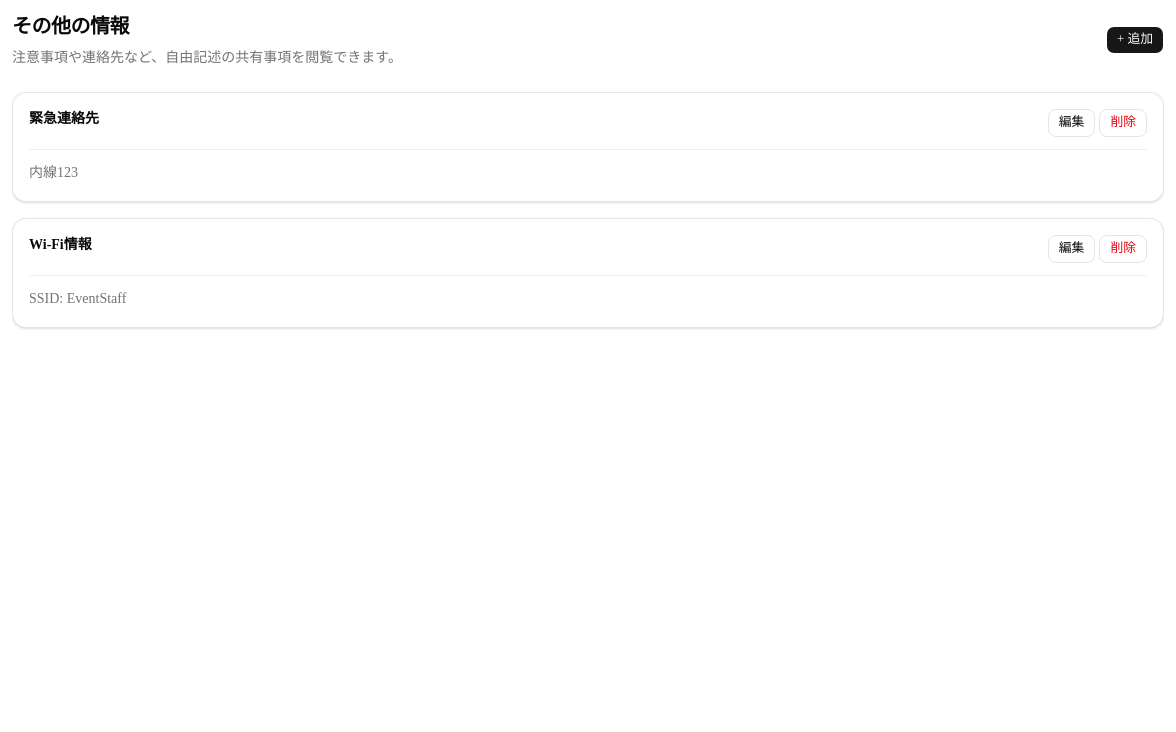
Test: OtherItemAdminPanel › 編集ボタンで既存データがフォームに入力済みになる
Click the button "編集" in the row of "緊急連絡先" at (1072, 123), box [1048, 109, 1095, 137]
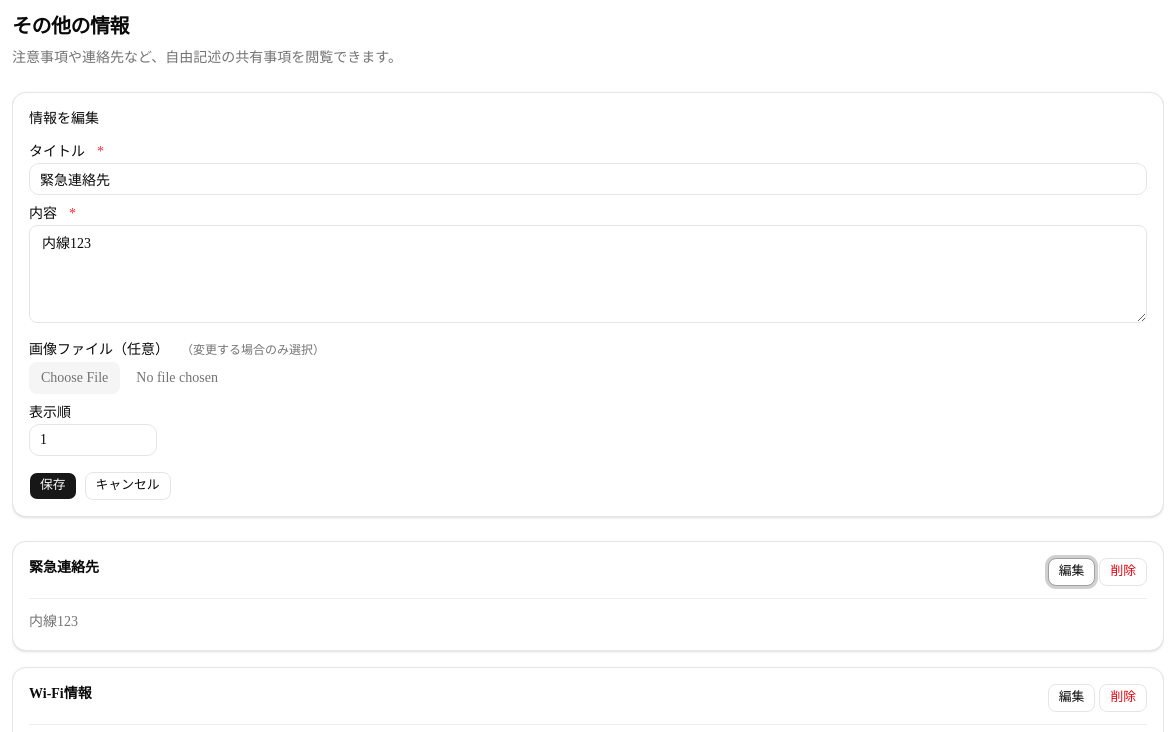
Result: the heading "情報を編集" is shown at [29, 111, 99, 126]
Result: the field labelled "タイトル *" holds "緊急連絡先" at [29, 163, 1147, 195]
Result: the text box labelled "内容 *" holds "内線123" at [29, 225, 1147, 323]
